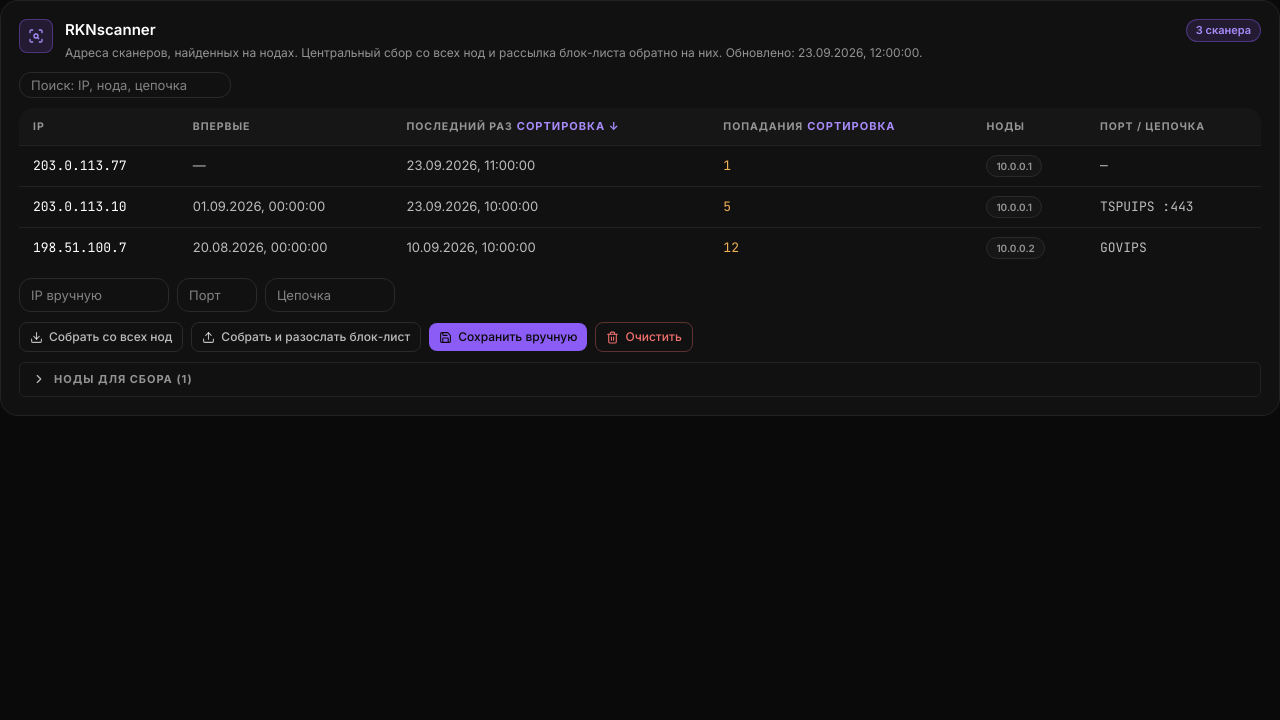
RknScanners › reads the real backend sync reply (results/merged) and refreshes the list
expect the text "203.0.113.10" is shown: met, box 19,187 -> 179,228
Click the button "Собрать со всех нод".
click(101, 337)  # box 19,322 -> 183,352
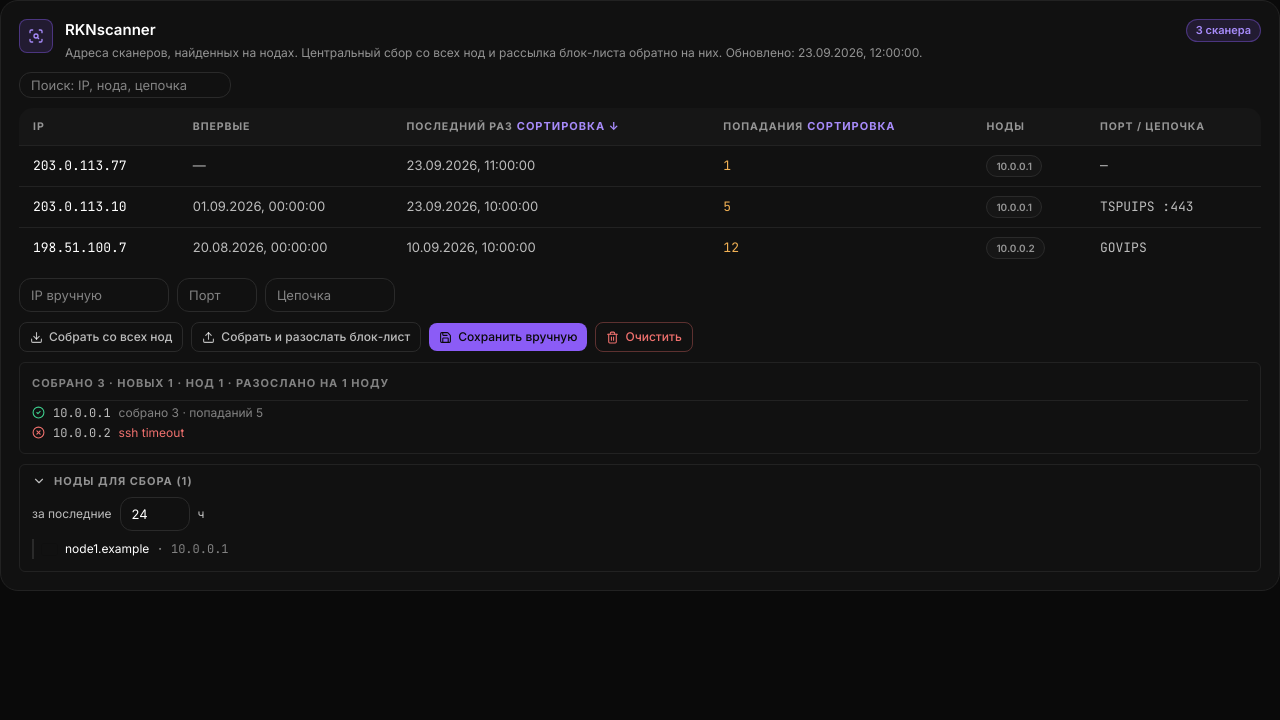
expect the text "203.0.113.77" is shown: met, box 19,146 -> 179,187
expect the text "собрано 3 · попаданий 5" is shown: met, box 119,405 -> 263,421
expect the text "ssh timeout" is shown: met, box 119,425 -> 184,441
